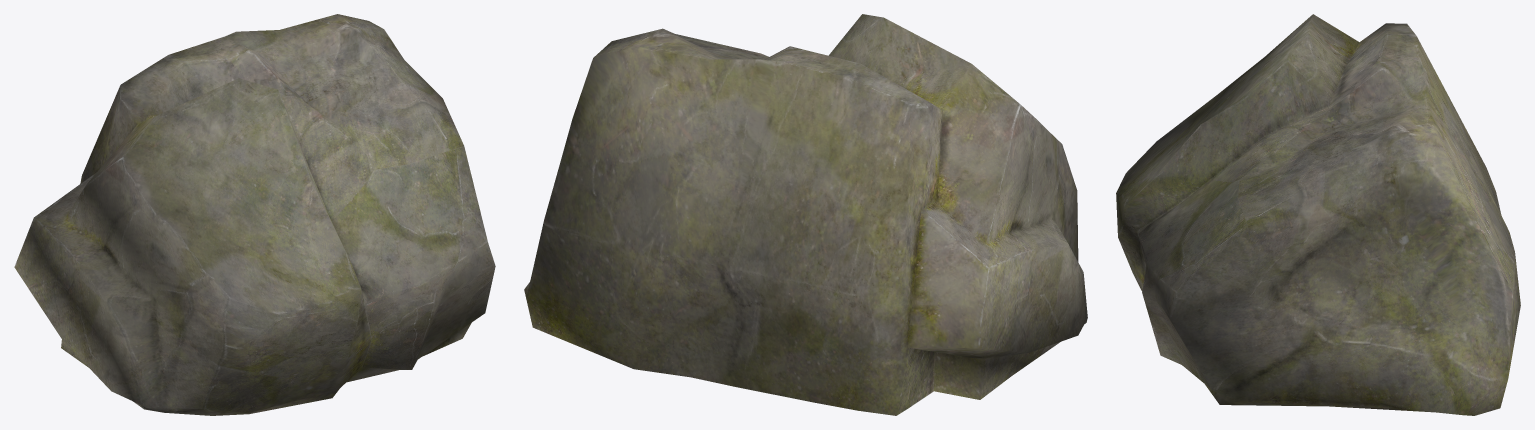
File: rock_field_03_a.FBX
The picture shows the model from 3 angles, left to right: view 1: azimuth 30°, elevation 25°; view 2: azimuth 150°, elevation 25°; view 3: azimuth 270°, elevation 25°; orthographic projection. The views are drawn at different scales.
Visible parts, largest first — view 1: rock_field_03_a; view 2: rock_field_03_a; view 3: rock_field_03_a.
Boxes of the visible parts, <box> form: rock_field_03_a: <box>14,14,495,415</box>; rock_field_03_a: <box>524,14,1087,415</box>; rock_field_03_a: <box>1116,14,1520,415</box>.
Size of the model in its own units: 5.9 by 4.05 by 5.27.
